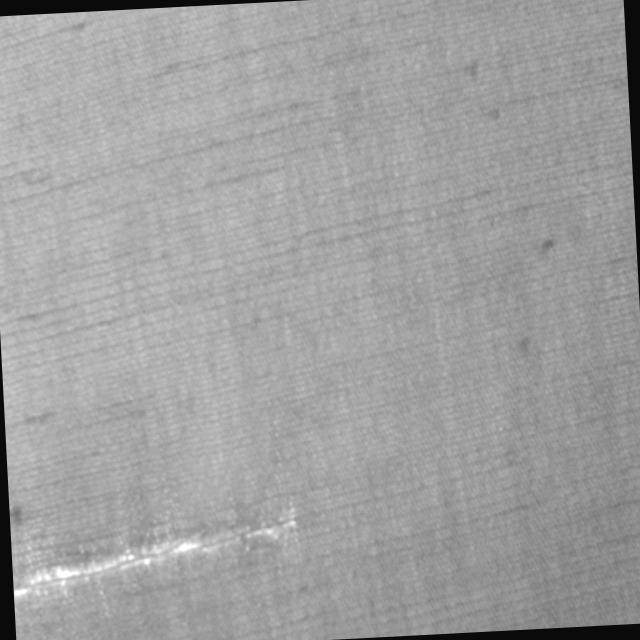hole: (10, 494, 306, 614)
